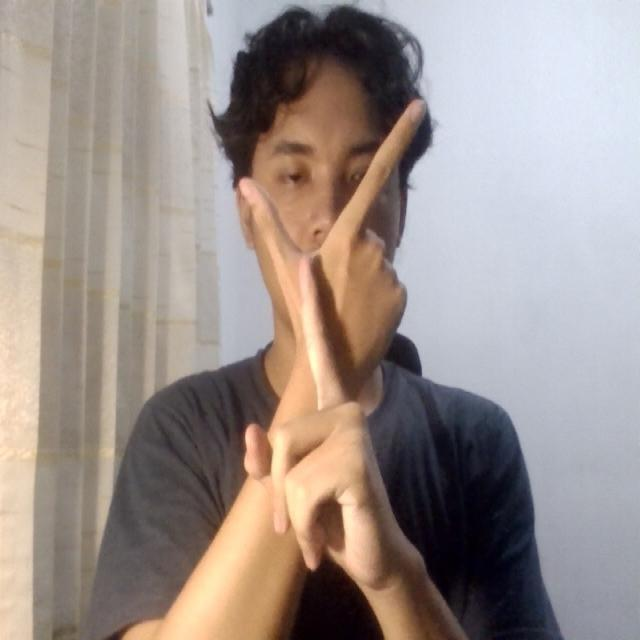No: (211, 85, 438, 596)
